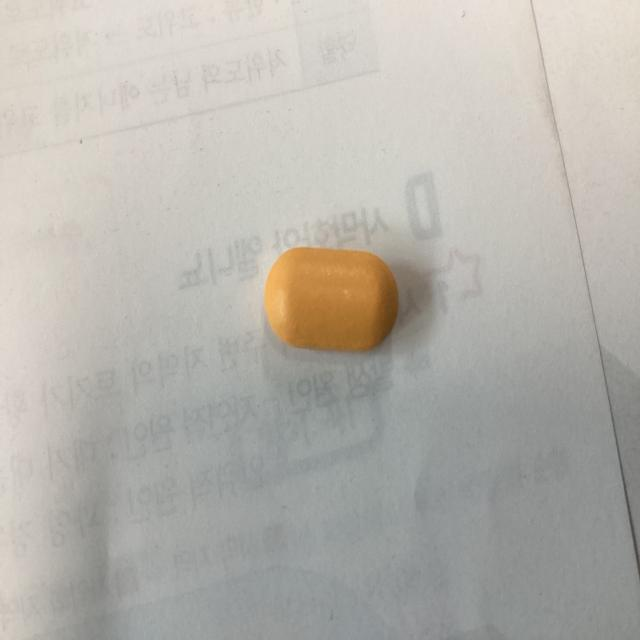-: (259, 230, 408, 367)
